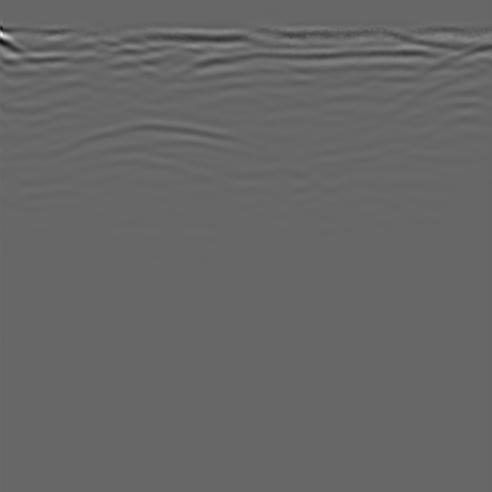hyperbola: (26, 104, 303, 213)
